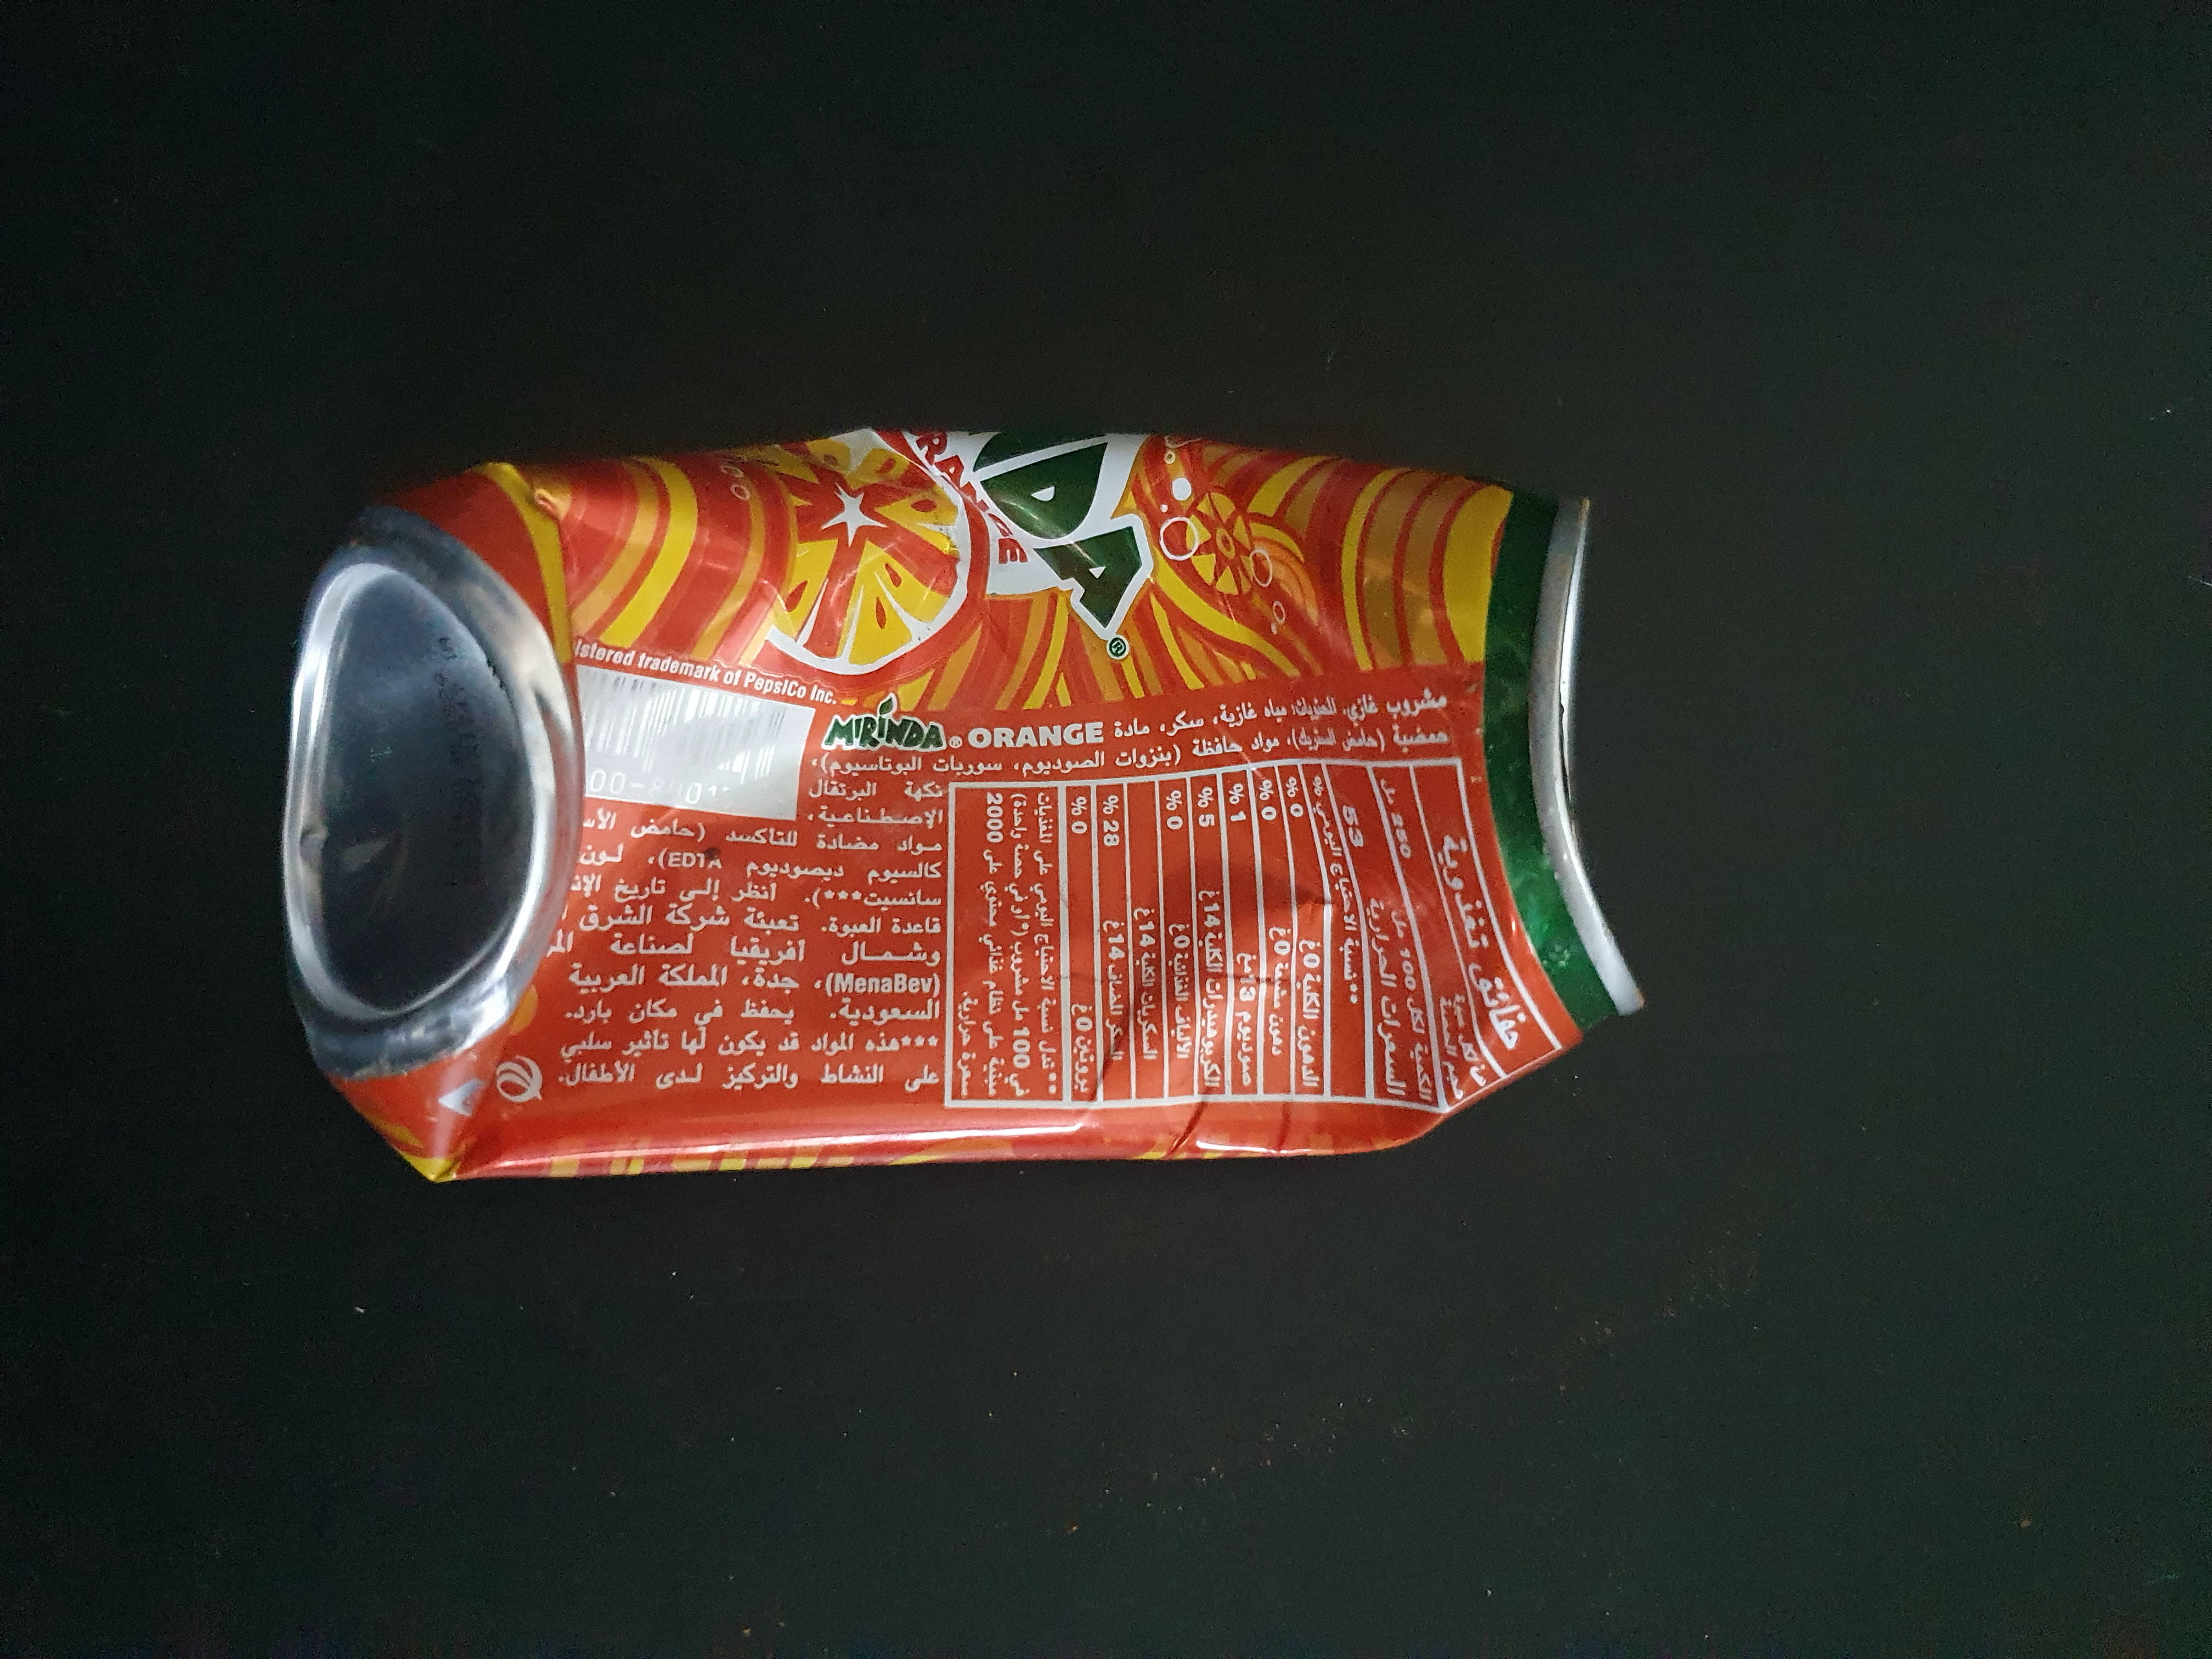metal: (268, 375, 1688, 1286)
